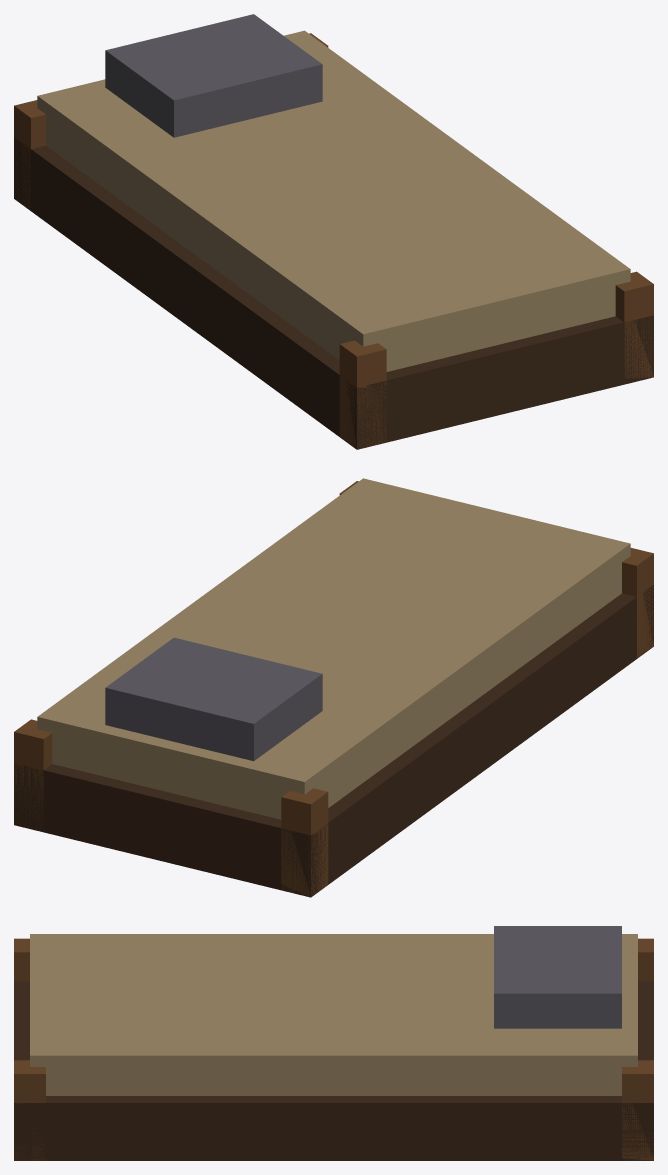
File: bed_straw.fbx
3 views of the same model, one above another, from view 1: azimuth 30°, elevation 25°; view 2: azimuth 150°, elevation 25°; view 3: azimuth 270°, elevation 25° (orthographic). The views are drawn at different scales.
Visible parts, largest first — view 1: bed_straw; view 2: bed_straw; view 3: bed_straw.
Boxes of the visible parts, x1,y1,x2,y2 form: bed_straw: (14,14,653,449); bed_straw: (14,478,653,897); bed_straw: (14,926,653,1160).
Size of the model in its own units: 1 by 0.46 by 2.
